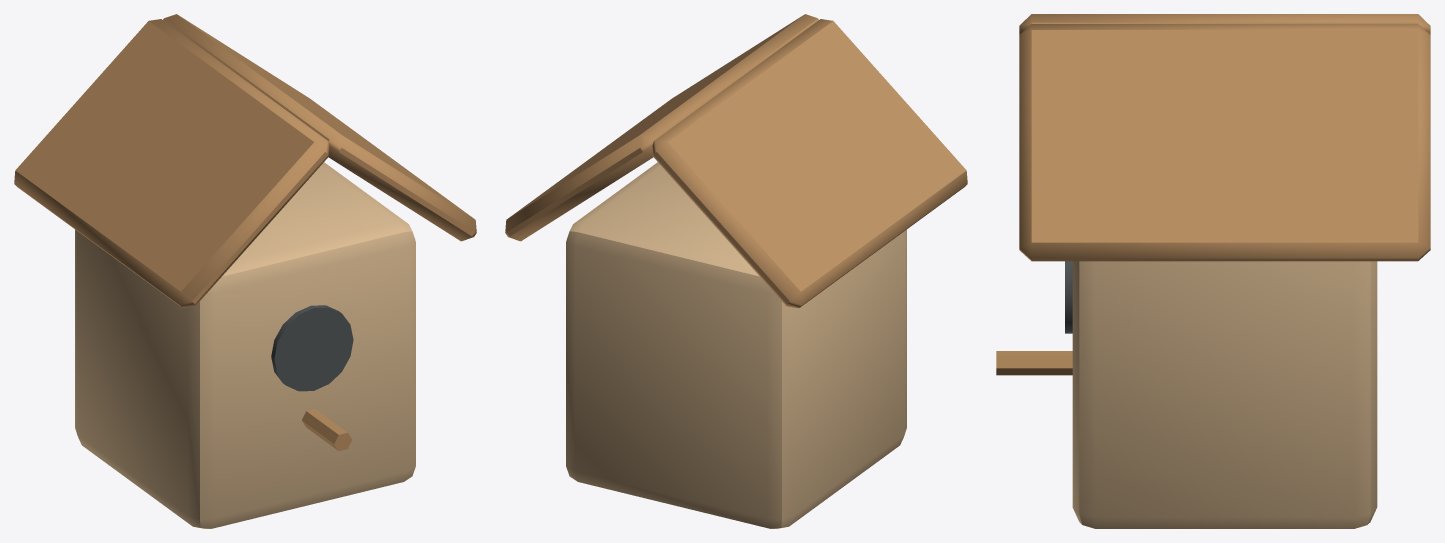
Rendered from birdhouse.glb.
3 views of the same model, side by side, from view 1: azimuth 30°, elevation 25°; view 2: azimuth 150°, elevation 25°; view 3: azimuth 270°, elevation 25° (orthographic). The views are drawn at different scales.
Visible parts, largest first — view 1: wood, crate, rubber; view 2: wood, crate; view 3: crate, wood, rubber.
Boxes of the visible parts, bbox=[...] form: wood: bbox=[75, 162, 415, 528]; crate: bbox=[14, 14, 476, 450]; rubber: bbox=[271, 305, 353, 391]; wood: bbox=[566, 162, 906, 528]; crate: bbox=[505, 14, 967, 307]; crate: bbox=[996, 14, 1430, 375]; wood: bbox=[1072, 261, 1377, 528]; rubber: bbox=[1065, 261, 1072, 333].
Size of the model in its own units: 0.2628 by 0.3272 by 0.285.
